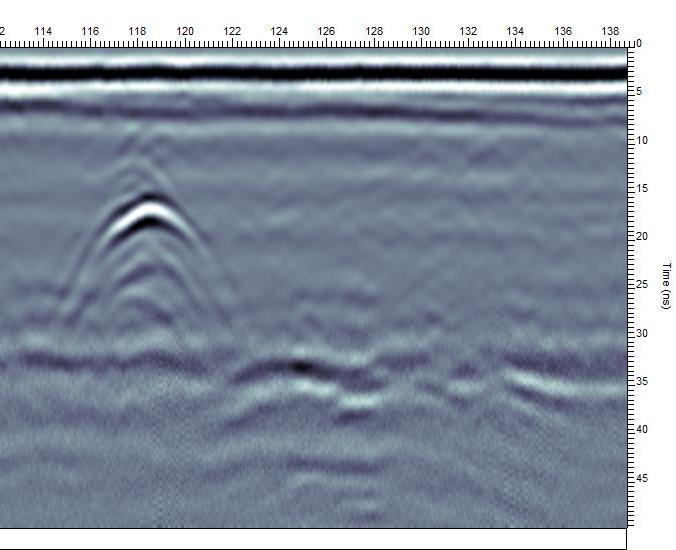Hyperbola: (43, 147, 260, 345)
